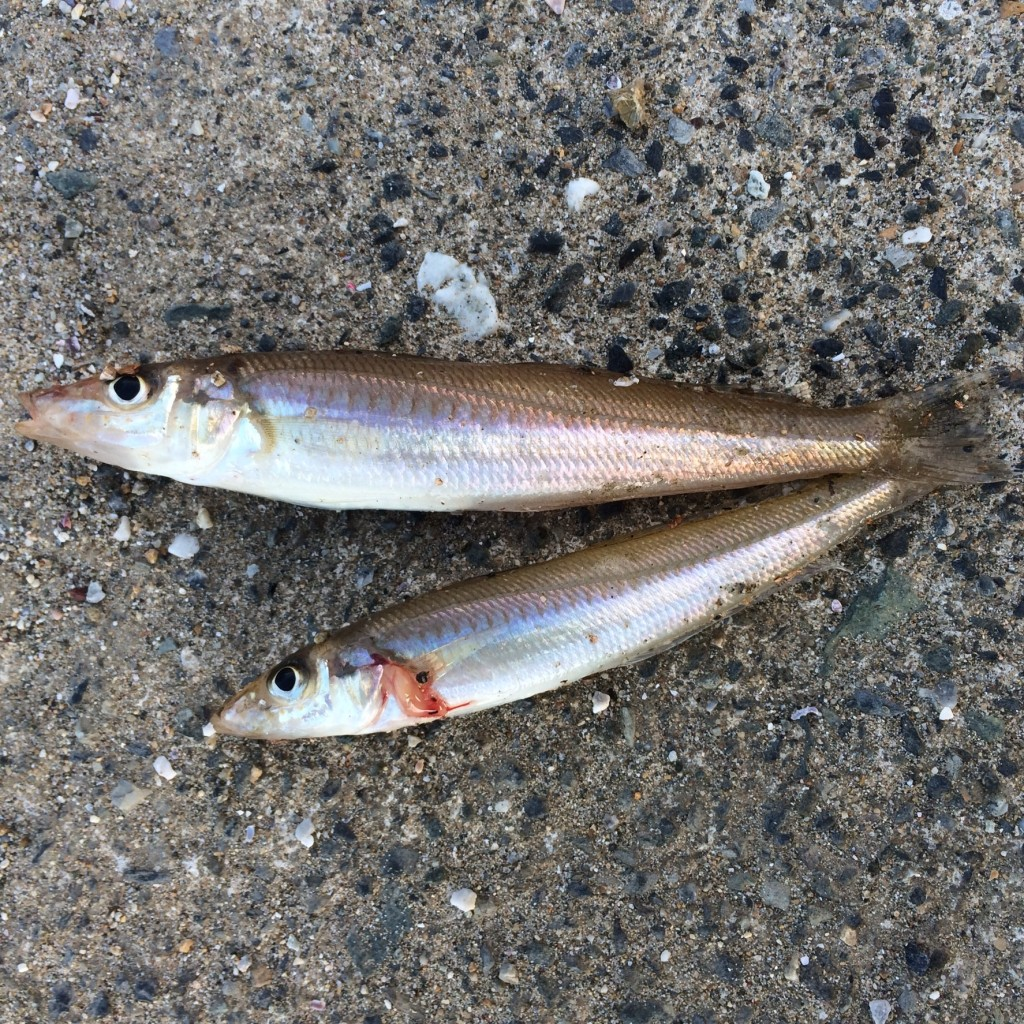kiss: (11, 308, 1000, 515)
